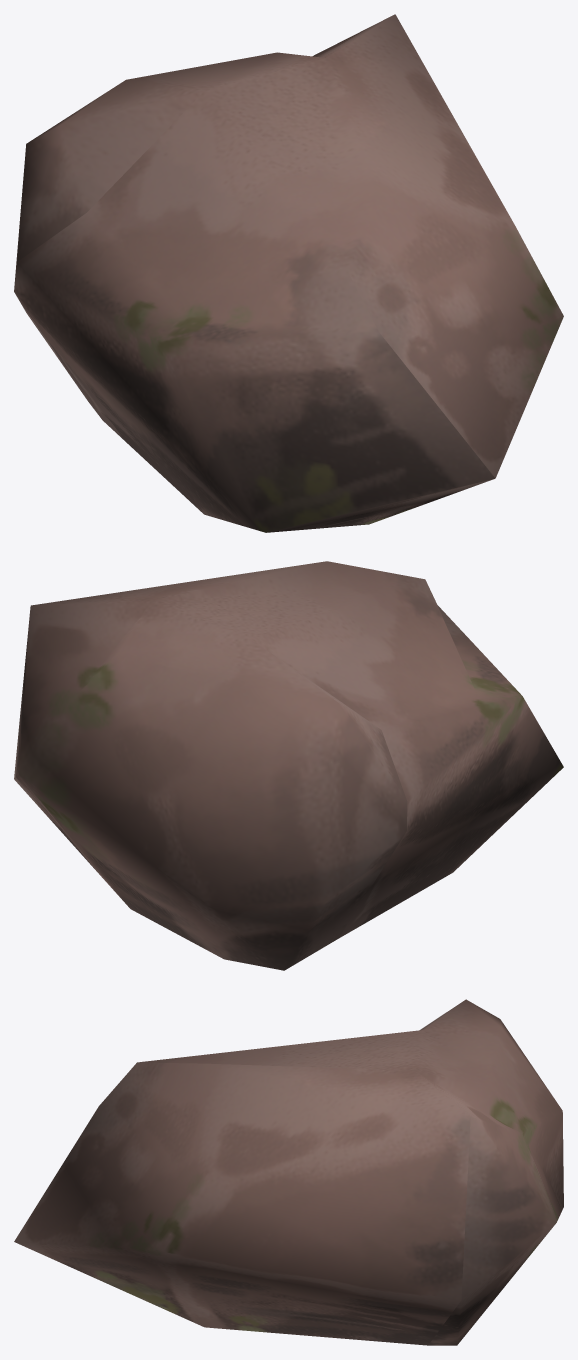
File: 1Small_stone.fbx
3 renders of one model, top to bottom at view 1: azimuth 30°, elevation 25°; view 2: azimuth 150°, elevation 25°; view 3: azimuth 270°, elevation 25°, orthographic. The views are drawn at different scales.
Parts seen in each view (by area): view 1: Cube; view 2: Cube; view 3: Cube.
Boxes of the visible parts, box(x1,y1,x2,y2) form: Cube: box(14, 14, 563, 532); Cube: box(14, 561, 563, 970); Cube: box(14, 999, 563, 1345).
Size of the model in its own units: 0.8256 by 0.6291 by 1.09.
